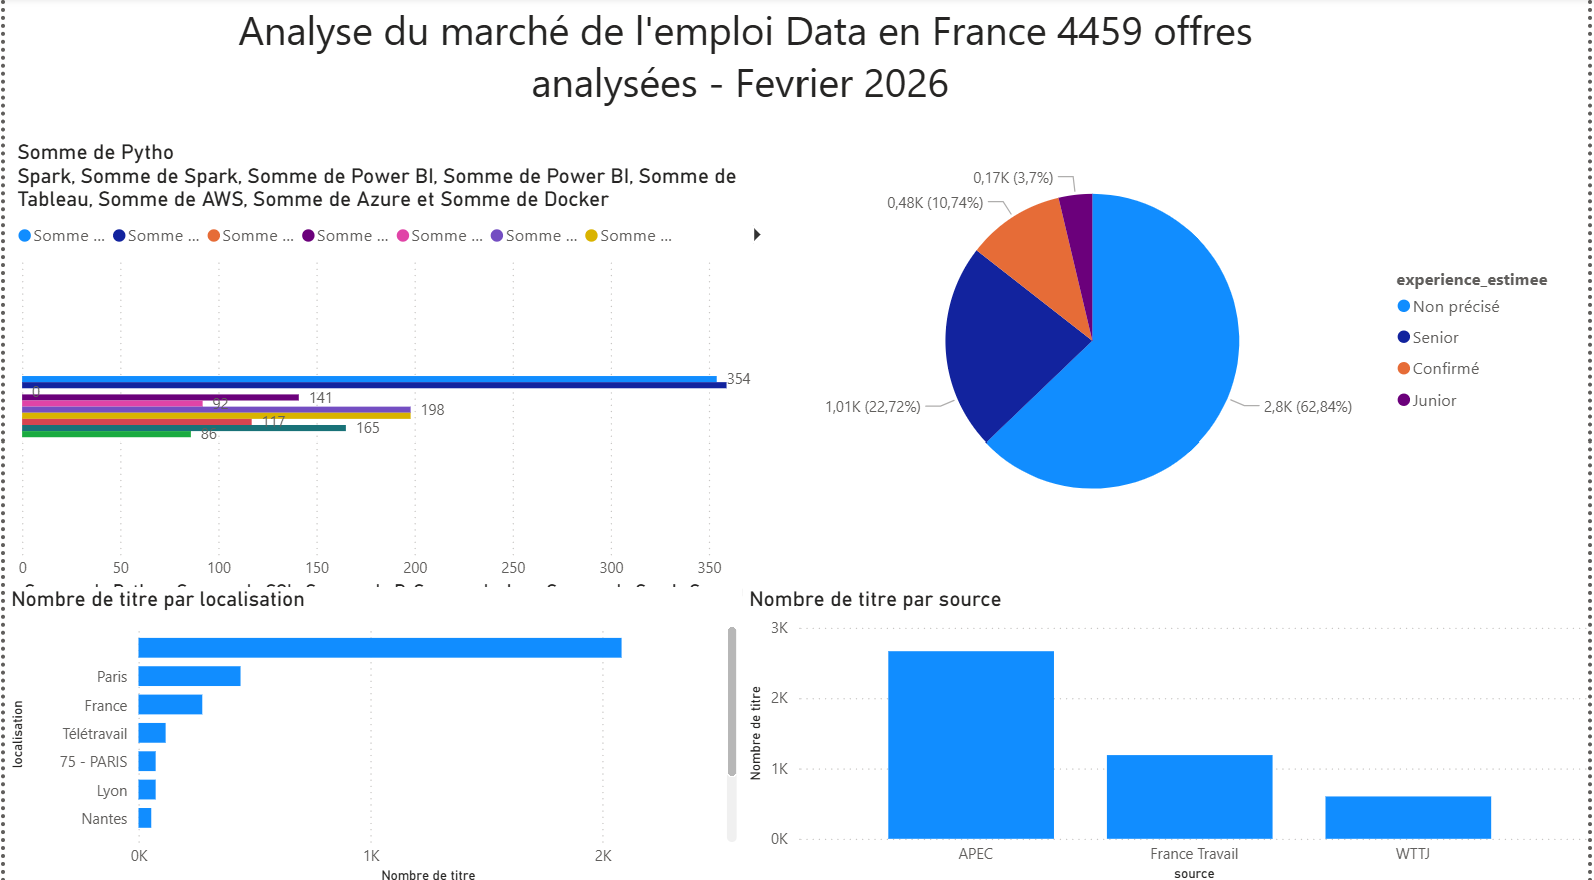

The dashboard page shown, as its layout file describes it:
{"tool":"powerbi","page":{"name":"Page 1","canvas":[1280,720],"ordinal":0},"visuals":[{"type":"clusteredBarChart","fields":{"Y":["Sum(offres_enriched.Python)","Sum(offres_enriched.SQL)","Sum(offres_enriched.R)","Sum(offres_enriched.Java)","Sum(offres_enriched.Spark)","Sum(offres_enriched.Spark)","Sum(offres_enriched.Power BI)","Sum(offres_enriched.Power BI)","Sum(offres_enriched.Tableau)","Sum(offres_enriched.AWS)","Sum(offres_enriched.Azure)","Sum(offres_enriched.Docker)"]},"box":[4.9,116.5,622.9,377],"z":0},{"type":"columnChart","fields":{"Category":["offres_enriched.source"],"Y":["CountNonNull(offres_enriched.titre)"]},"box":[597,477.3,687.6,242.7],"z":1000},{"type":"pieChart","fields":{"Category":["offres_enriched.experience_estimee"],"Y":["CountNonNull(offres_enriched.titre)"]},"box":[627.8,95.5,639.1,347.9],"z":2000},{"type":"clusteredBarChart","fields":{"Category":["offres_enriched.localisation"],"Y":["CountNonNull(offres_enriched.titre)"]},"box":[0,477.3,597,244.3],"z":2001},{"type":"textbox","box":[138.2,0,922.1,136.3],"z":2002}]}

Visuals, with their boxes in screenshot pixels (x1, y1, x2, y2), scaled from the page's 1280x720 canvas onto the 1594x880 screenshot:
clusteredBarChart - Sum(offres_enriched.Python) x Sum(offres_enriched.SQL): BBox(6, 142, 782, 603)
columnChart - offres_enriched.source x CountNonNull(offres_enriched.titre): BBox(743, 583, 1593, 879)
pieChart - offres_enriched.experience_estimee x CountNonNull(offres_enriched.titre): BBox(782, 117, 1578, 542)
clusteredBarChart - offres_enriched.localisation x CountNonNull(offres_enriched.titre): BBox(0, 583, 743, 879)
textbox: BBox(172, 0, 1320, 167)
